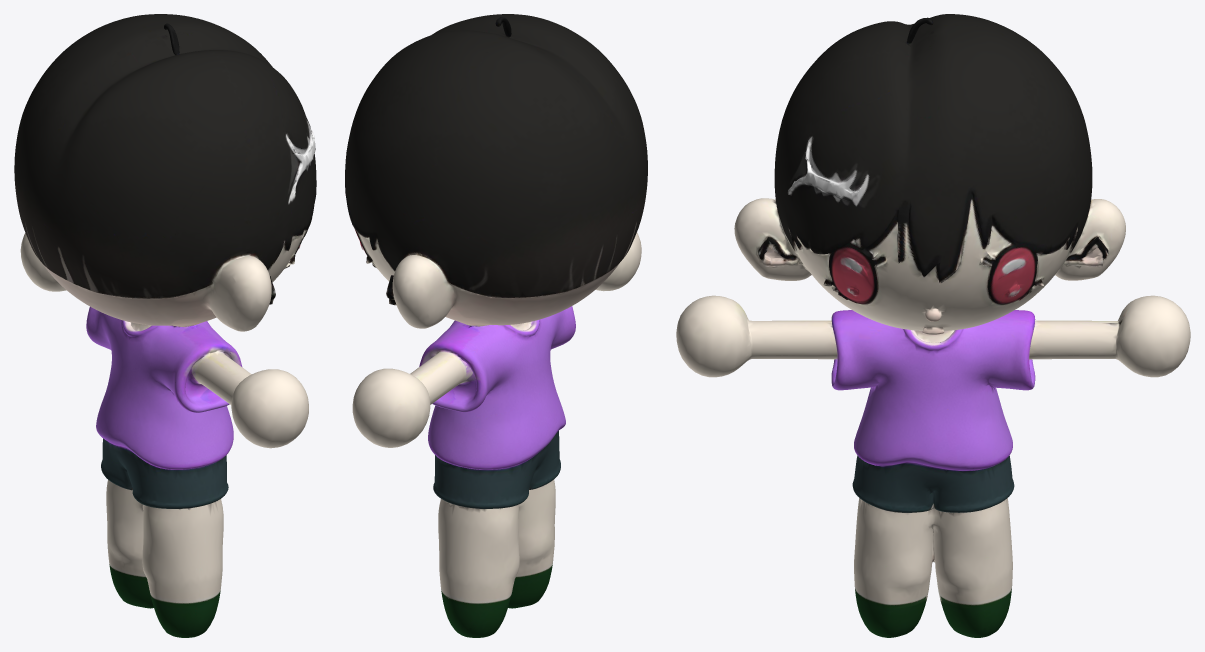
The model's file is tabin.glb.
3 views of the same model, side by side, from view 1: azimuth 30°, elevation 25°; view 2: azimuth 150°, elevation 25°; view 3: azimuth 270°, elevation 25° (orthographic). The views are drawn at different scales.
Parts seen in each view (by area): view 1: tripo_node_c14f38f5-e3c9-4789-851d-5214c6b520fc; view 2: tripo_node_c14f38f5-e3c9-4789-851d-5214c6b520fc; view 3: tripo_node_c14f38f5-e3c9-4789-851d-5214c6b520fc.
Boxes of the visible parts, bbox=[...] form: tripo_node_c14f38f5-e3c9-4789-851d-5214c6b520fc: bbox=[14, 14, 316, 637]; tripo_node_c14f38f5-e3c9-4789-851d-5214c6b520fc: bbox=[345, 14, 647, 637]; tripo_node_c14f38f5-e3c9-4789-851d-5214c6b520fc: bbox=[676, 14, 1190, 637].
Bounding box in the file's own units: 0.4588 × 0.9999 × 0.7589.
1 material, 1 textured.
